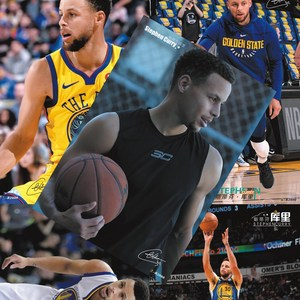ball: (53, 153, 130, 225), (198, 211, 218, 233)
